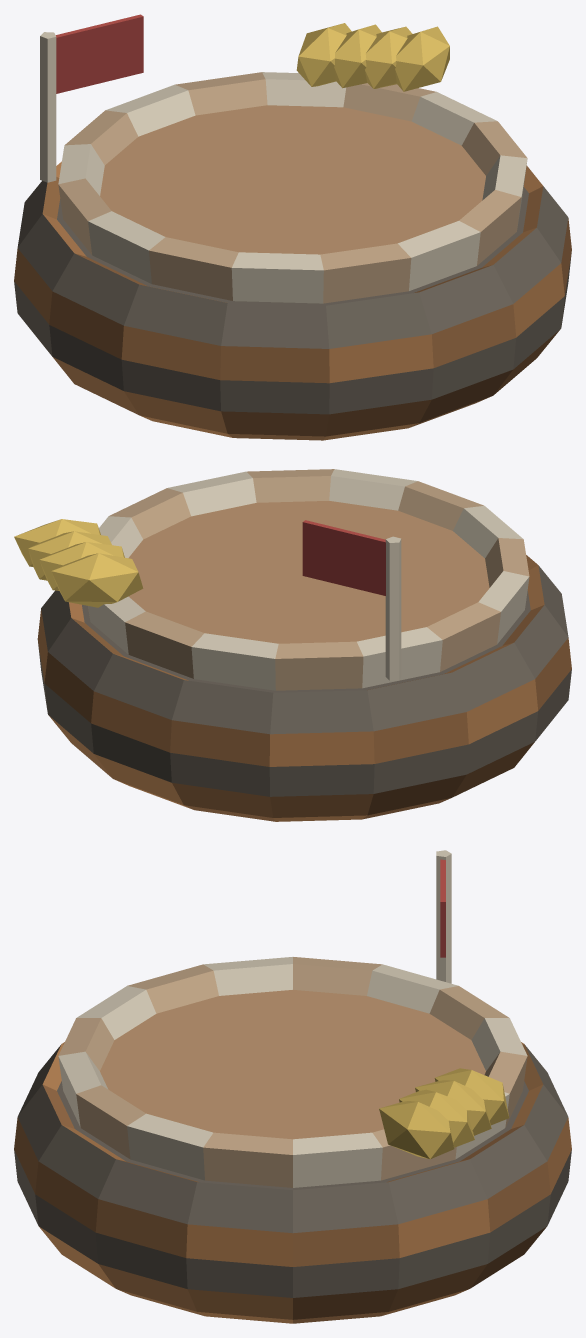
The model's file is habitat_rodeo_barrel.fbx.
The picture shows the model from 3 angles, top to bottom: view 1: azimuth 30°, elevation 25°; view 2: azimuth 150°, elevation 25°; view 3: azimuth 270°, elevation 25°; orthographic projection. The views are drawn at different scales.
Visible parts, largest first — view 1: habitat_rodeo_barrel; view 2: habitat_rodeo_barrel; view 3: habitat_rodeo_barrel.
Part boxes in pixels (x1,y1,x2,y2): habitat_rodeo_barrel: (14, 14, 571, 440); habitat_rodeo_barrel: (14, 469, 571, 821); habitat_rodeo_barrel: (14, 850, 571, 1323).
Bounding box in the file's own units: 7.8 × 4.5 × 7.8.
